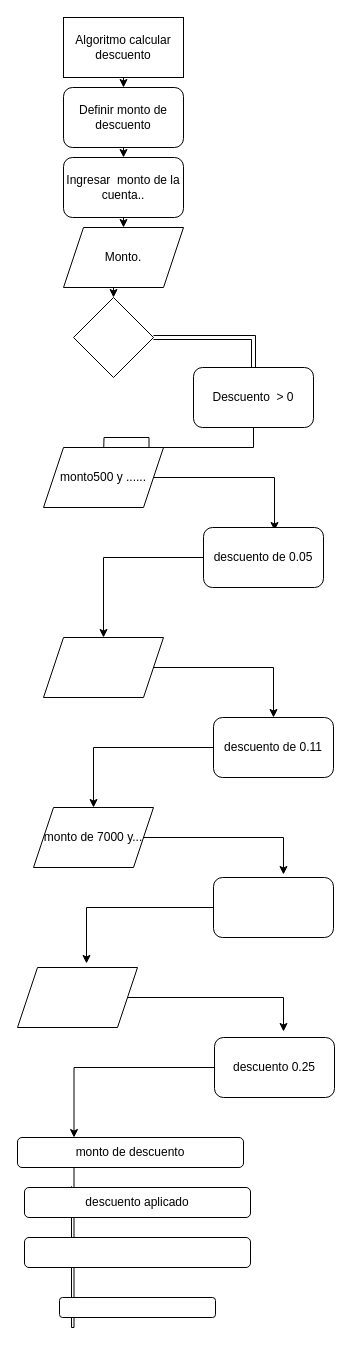
Image size: 352x1353. Some labels were removed from this diagram. Each missing label, with the centre of its shape:
"descuento>>0.18" goes at (273,907).
"Final del algoritmo" goes at (137,1307).
"Monto 500" goes at (113,337).
"monto de 1000" goes at (103,667).
"monto total con descuento" goes at (137,1252).
"monto>5000" goes at (77,997).
